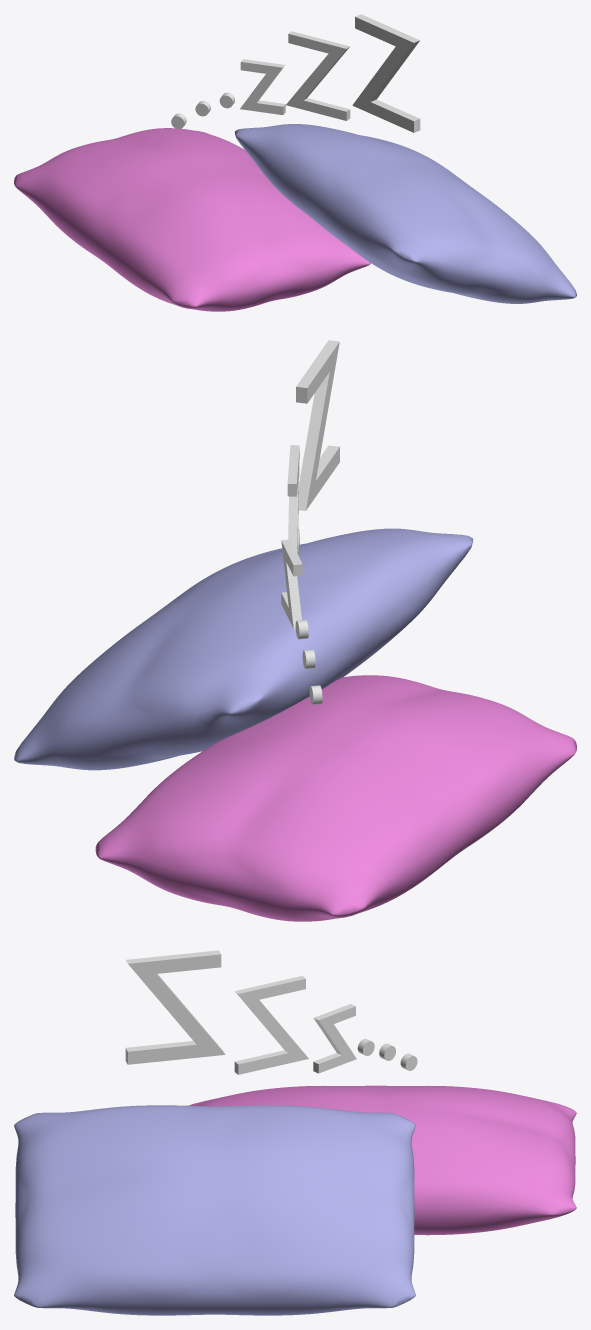
File: Traveseiro.glb
3 renders of one model, top to bottom at view 1: azimuth 30°, elevation 25°; view 2: azimuth 150°, elevation 25°; view 3: azimuth 270°, elevation 25°, orthographic. The views are drawn at different scales.
Parts seen in each view (by area): view 1: Plane, Plane.001, Text; view 2: Plane, Plane.001, Text; view 3: Plane.001, Plane, Text.
Part boxes in pixels (box(x1,y1,x2,y2)): Plane: box(14, 128, 370, 311); Plane.001: box(235, 124, 576, 303); Text: box(171, 14, 420, 132); Plane: box(95, 675, 576, 921); Plane.001: box(14, 528, 473, 770); Text: box(281, 340, 339, 704); Plane.001: box(14, 1105, 415, 1315); Plane: box(189, 1085, 576, 1235); Text: box(125, 950, 417, 1074).
Size of the model in its own units: 3.29 by 2.65 by 4.3.
